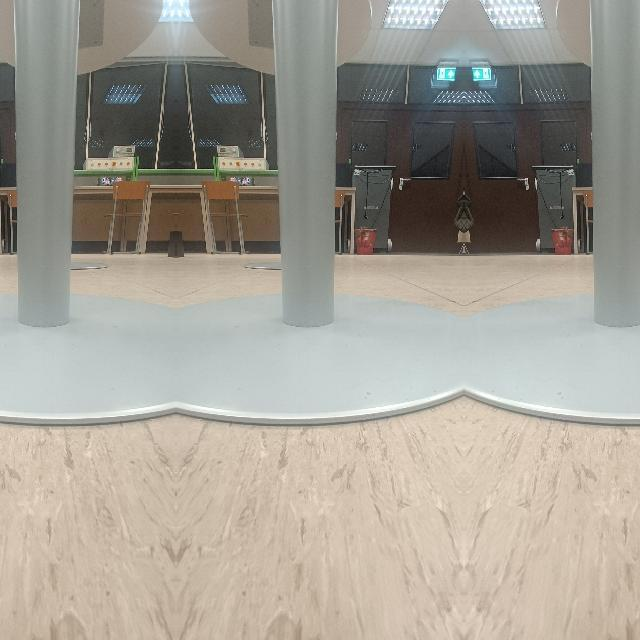obstacle: (178, 100, 462, 426), (466, 100, 640, 425), (0, 100, 171, 425)
